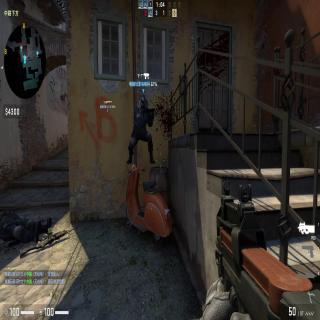CT-Body: (128, 96, 156, 166)
CT-Head: (139, 95, 149, 112)
